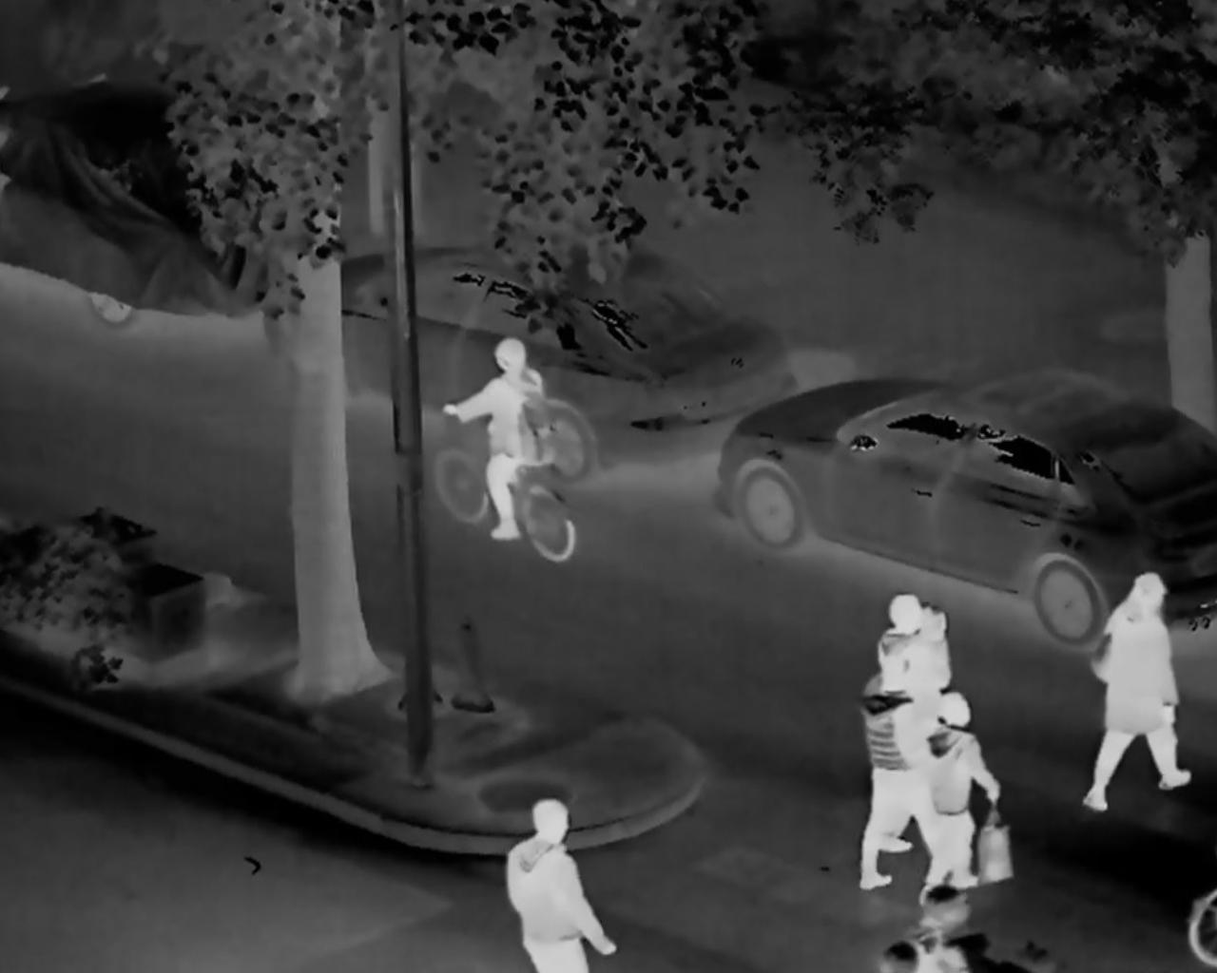person: (1090, 568, 1195, 825), (449, 337, 574, 541), (843, 598, 925, 888), (496, 801, 626, 972), (926, 689, 997, 916), (890, 568, 958, 786)
